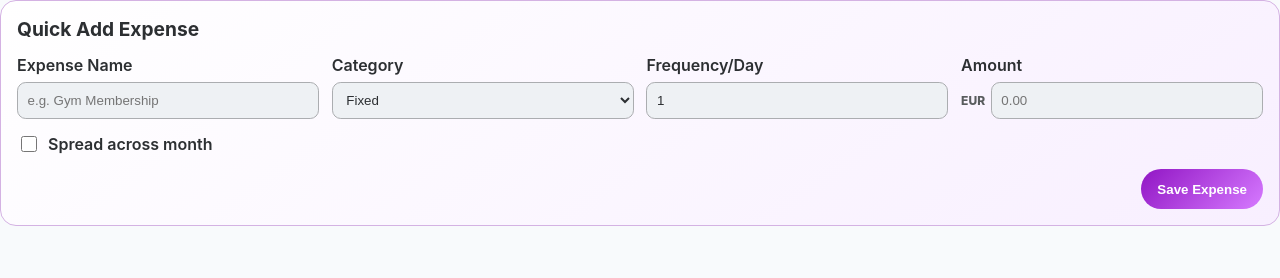
Test: ExpenseForm › validates day outside range 1-31
This screenshot has width=1280, height=278.
Type "Rent" into the field with test id "expense-name" at {"x": 168, "y": 100}, box [17, 82, 319, 119]
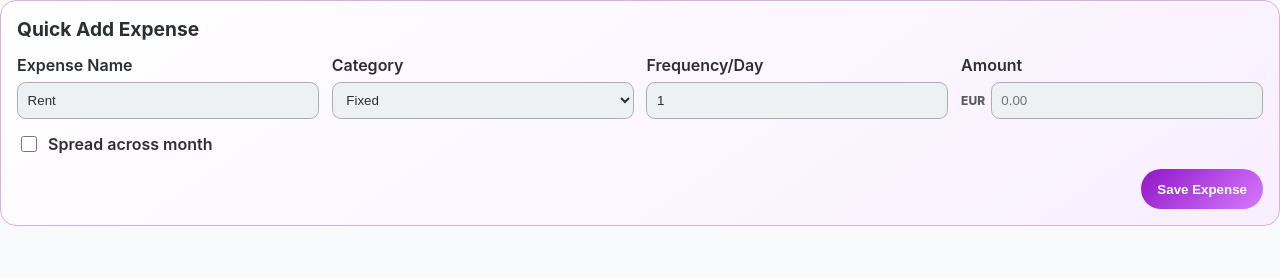
Type "100" into the number field with test id "expense-amount" at {"x": 1127, "y": 100}, box [991, 82, 1263, 119]
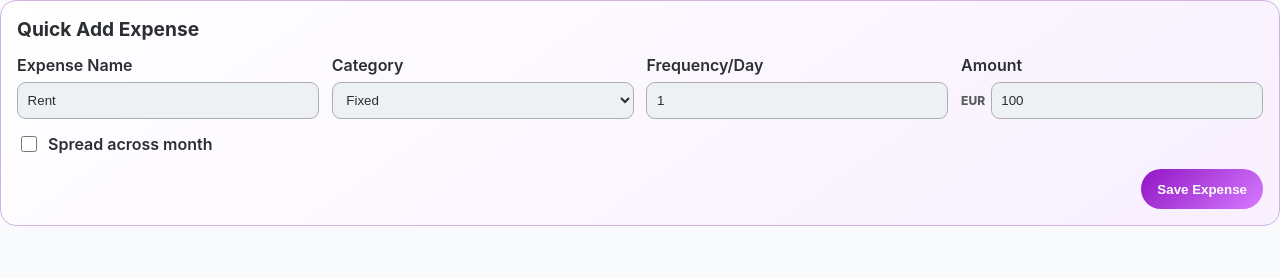
Replace the text in the number field with test id "expense-day" with "0" at {"x": 797, "y": 100}, box [646, 82, 948, 119]
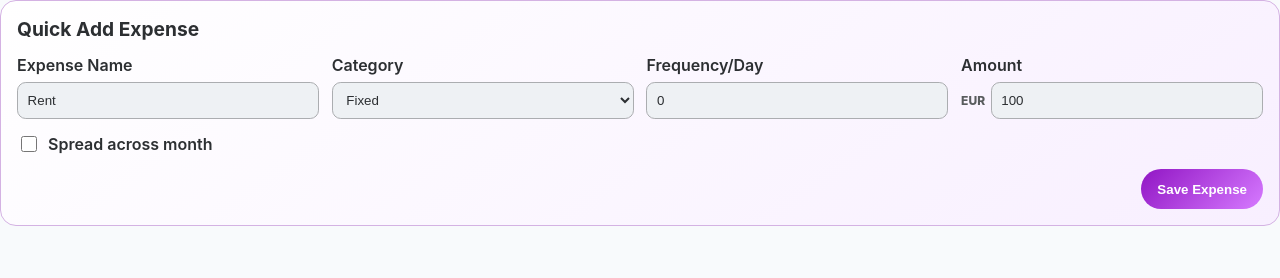
Click the button with test id "save-expense-button" at {"x": 1202, "y": 189}, box [1141, 169, 1263, 209]
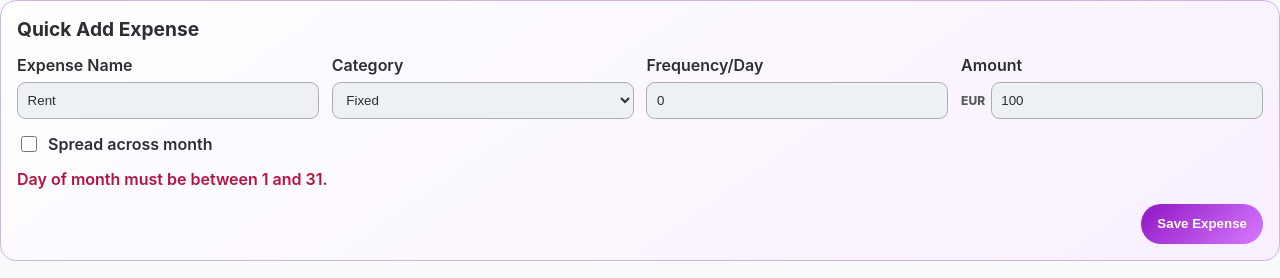
Expected: the text with test id "expense-form-error" reads "Day of month must be between 1 and 31.", [17, 169, 328, 189]
